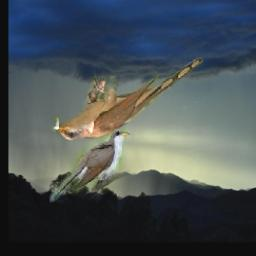Cuckoo: (50, 57, 202, 141), (48, 128, 130, 203)
